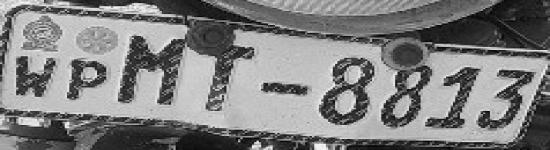-: (260, 80, 310, 99)
1: (439, 62, 484, 130)
3: (476, 68, 539, 130)
8: (316, 52, 377, 130), (380, 64, 434, 129)
M: (121, 33, 190, 109)
P: (66, 56, 111, 105)
T: (197, 41, 257, 116)
W: (13, 49, 61, 102)
